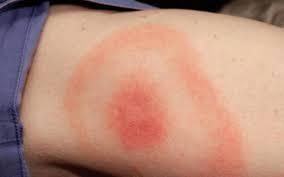Tick: (71, 28, 222, 177)
